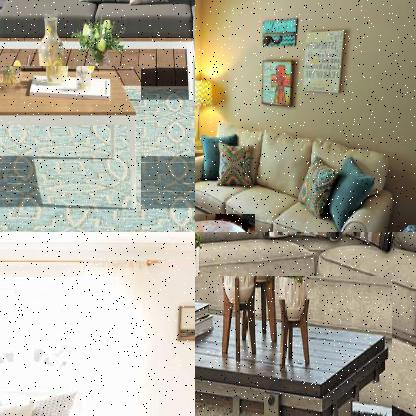table: (195, 275, 392, 415), (0, 66, 142, 213)
